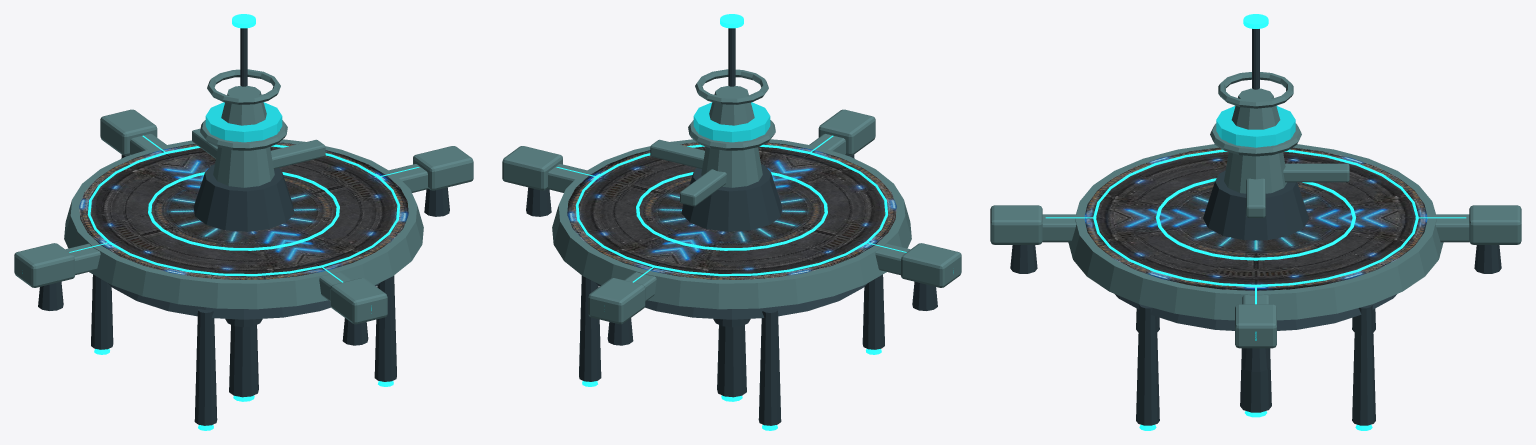
File: tempest-ozone-base-v2-lod1.glb
The picture shows the model from 3 angles, left to right: view 1: azimuth 30°, elevation 25°; view 2: azimuth 150°, elevation 25°; view 3: azimuth 270°, elevation 25°; orthographic projection. The views are drawn at different scales.
Parts seen in each view (by area): view 1: tempest_ozone_base_v2__lod1__Tempest orbital armor, tempest_ozone_base_v2__lod1__Tempest tactical mesh overlay, tempest_ozone_base_v2__lod1__Tempest structural shadow, tempest_ozone_base_v2__lod1__Tempest emissive guidance, tempest_ozone_base_v2__lod1__Tempest recessed glazing; view 2: tempest_ozone_base_v2__lod1__Tempest orbital armor, tempest_ozone_base_v2__lod1__Tempest tactical mesh overlay, tempest_ozone_base_v2__lod1__Tempest structural shadow, tempest_ozone_base_v2__lod1__Tempest emissive guidance, tempest_ozone_base_v2__lod1__Tempest recessed glazing; view 3: tempest_ozone_base_v2__lod1__Tempest orbital armor, tempest_ozone_base_v2__lod1__Tempest tactical mesh overlay, tempest_ozone_base_v2__lod1__Tempest structural shadow, tempest_ozone_base_v2__lod1__Tempest emissive guidance, tempest_ozone_base_v2__lod1__Tempest recessed glazing.
Part boxes in pixels (x1,y1,x2,y2): tempest_ozone_base_v2__lod1__Tempest orbital armor: [14, 69, 473, 324]; tempest_ozone_base_v2__lod1__Tempest tactical mesh overlay: [79, 142, 408, 279]; tempest_ozone_base_v2__lod1__Tempest structural shadow: [38, 28, 449, 425]; tempest_ozone_base_v2__lod1__Tempest emissive guidance: [69, 14, 419, 430]; tempest_ozone_base_v2__lod1__Tempest recessed glazing: [22, 102, 371, 313]; tempest_ozone_base_v2__lod1__Tempest orbital armor: [502, 69, 961, 324]; tempest_ozone_base_v2__lod1__Tempest tactical mesh overlay: [567, 142, 896, 279]; tempest_ozone_base_v2__lod1__Tempest structural shadow: [526, 28, 937, 425]; tempest_ozone_base_v2__lod1__Tempest emissive guidance: [556, 14, 906, 430]; tempest_ozone_base_v2__lod1__Tempest recessed glazing: [693, 102, 953, 273]; tempest_ozone_base_v2__lod1__Tempest orbital armor: [990, 72, 1521, 348]; tempest_ozone_base_v2__lod1__Tempest tactical mesh overlay: [1084, 147, 1427, 290]; tempest_ozone_base_v2__lod1__Tempest structural shadow: [1010, 29, 1501, 425]; tempest_ozone_base_v2__lod1__Tempest emissive guidance: [1045, 14, 1466, 430]; tempest_ozone_base_v2__lod1__Tempest recessed glazing: [1216, 105, 1295, 340].
Size of the model in its own units: 934 by 764 by 934.
Materials: 5 (1 with a texture image).
